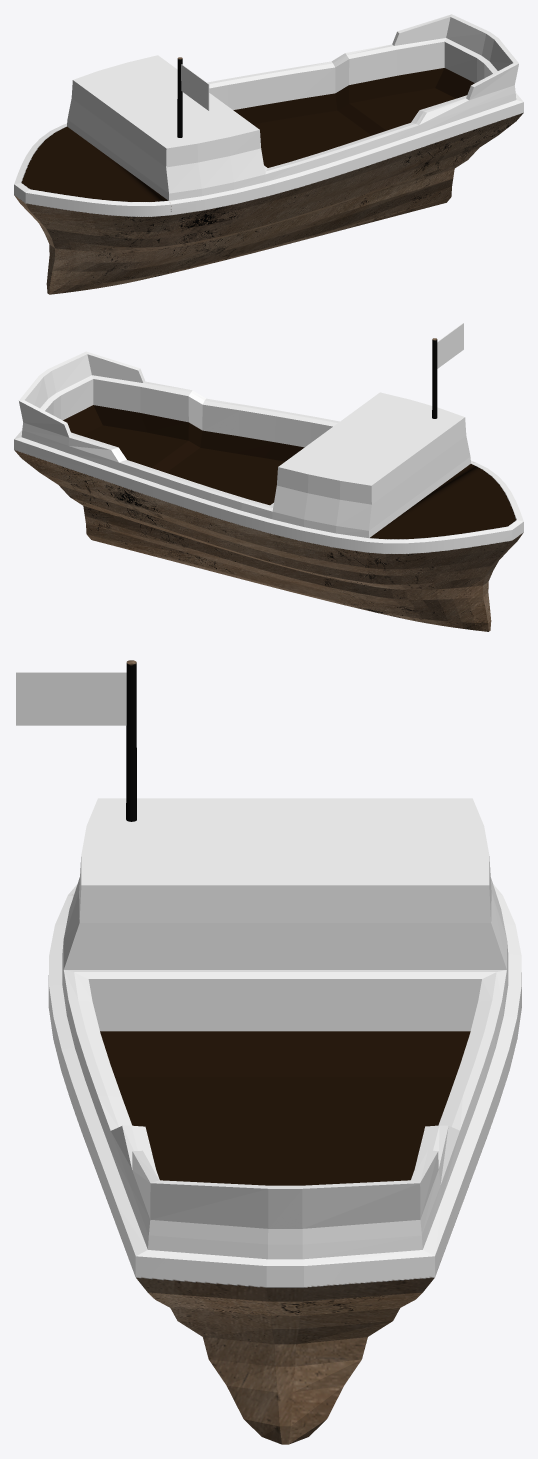
3 views of the same model, one above another, from view 1: azimuth 30°, elevation 25°; view 2: azimuth 150°, elevation 25°; view 3: azimuth 270°, elevation 25° (orthographic). The views are drawn at different scales.
Parts seen in each view (by area): view 1: Line001; view 2: Line001; view 3: Line001.
Boxes of the visible parts, left/top/right/bottom form: Line001: left=14, top=14, right=523, bottom=294; Line001: left=14, top=323, right=523, bottom=631; Line001: left=16, top=660, right=521, bottom=1444.
Size of the model in its own units: 511 by 247 by 235.
1 material, 1 textured.
